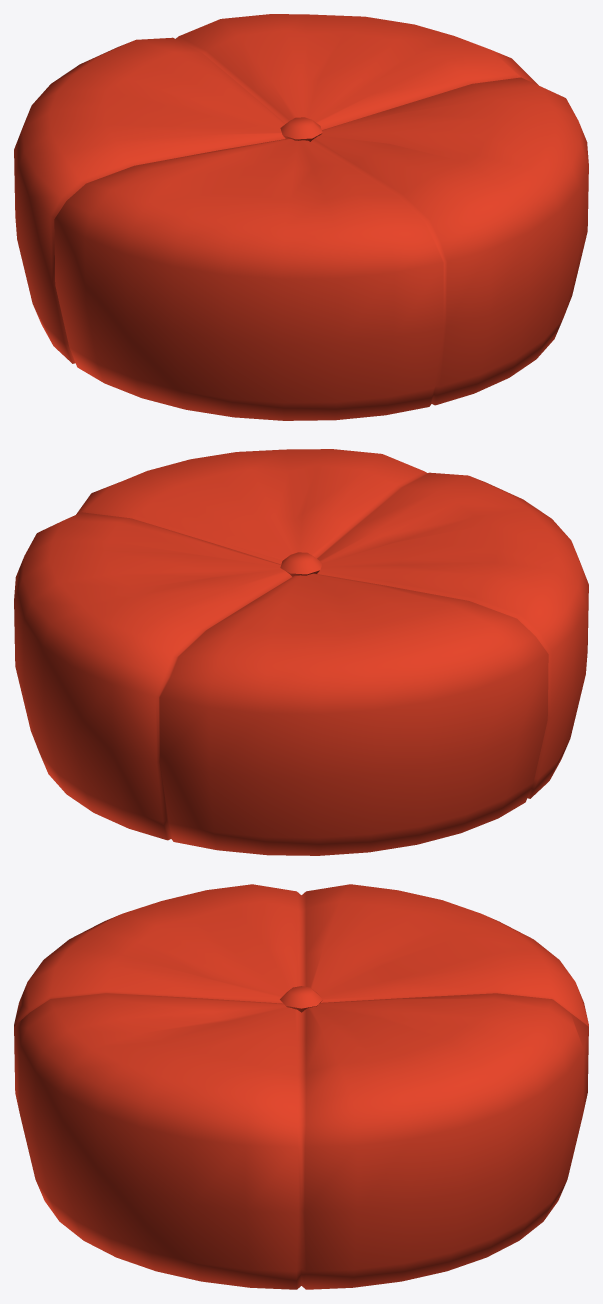
File: Ottoman.fbx
3 views of the same model, one above another, from view 1: azimuth 30°, elevation 25°; view 2: azimuth 150°, elevation 25°; view 3: azimuth 270°, elevation 25° (orthographic).
Visible parts, largest first — view 1: Ottoman; view 2: Ottoman; view 3: Ottoman.
Boxes of the visible parts, bbox=[...] form: Ottoman: bbox=[14, 14, 588, 420]; Ottoman: bbox=[14, 449, 588, 855]; Ottoman: bbox=[14, 884, 588, 1289].
Bounding box in the file's own units: 50.73 × 19.24 × 50.76.
